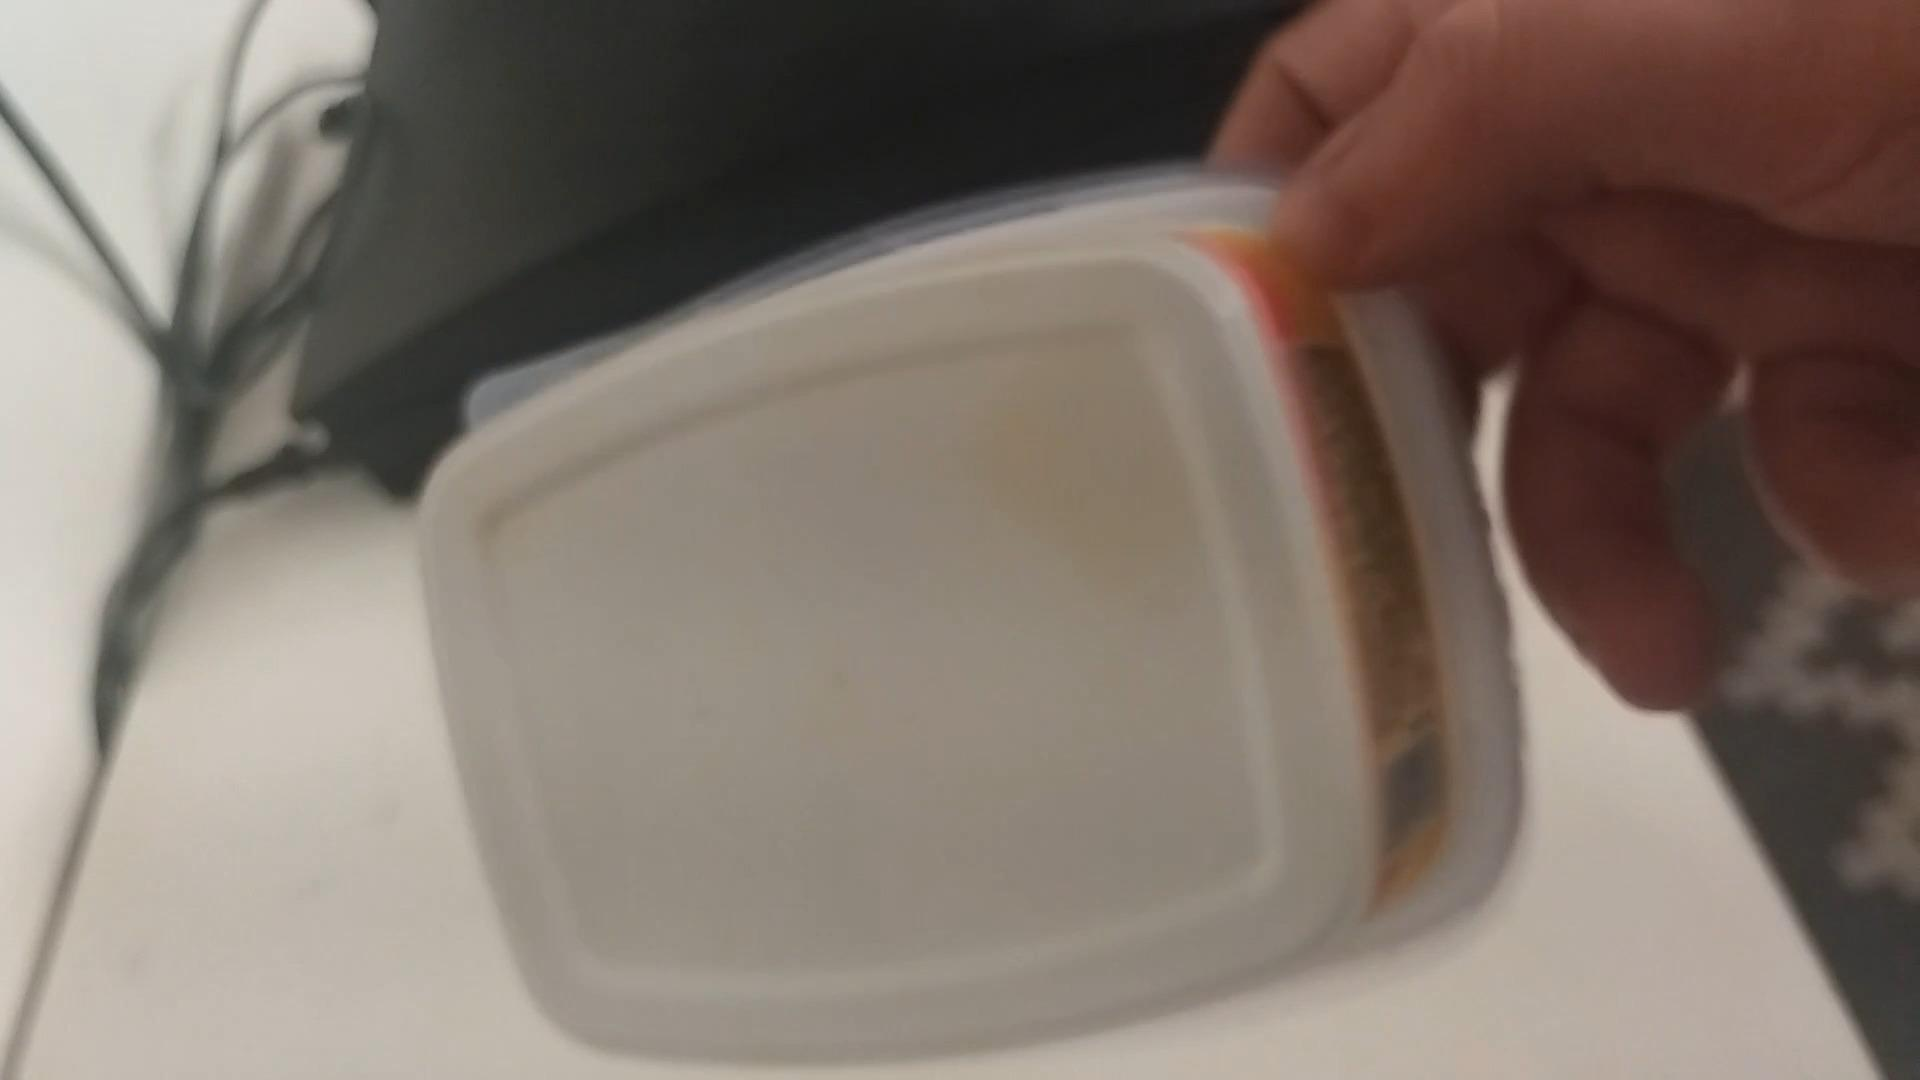butter: (410, 156, 1524, 1065)
